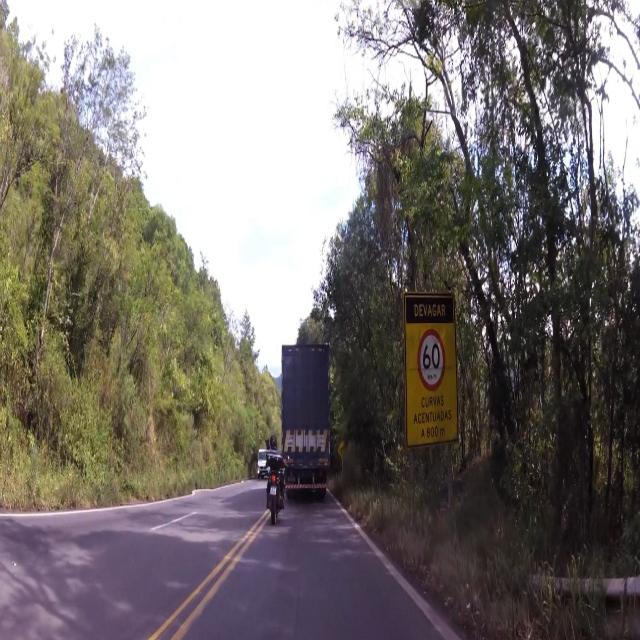R-19: (414, 328, 450, 395)
